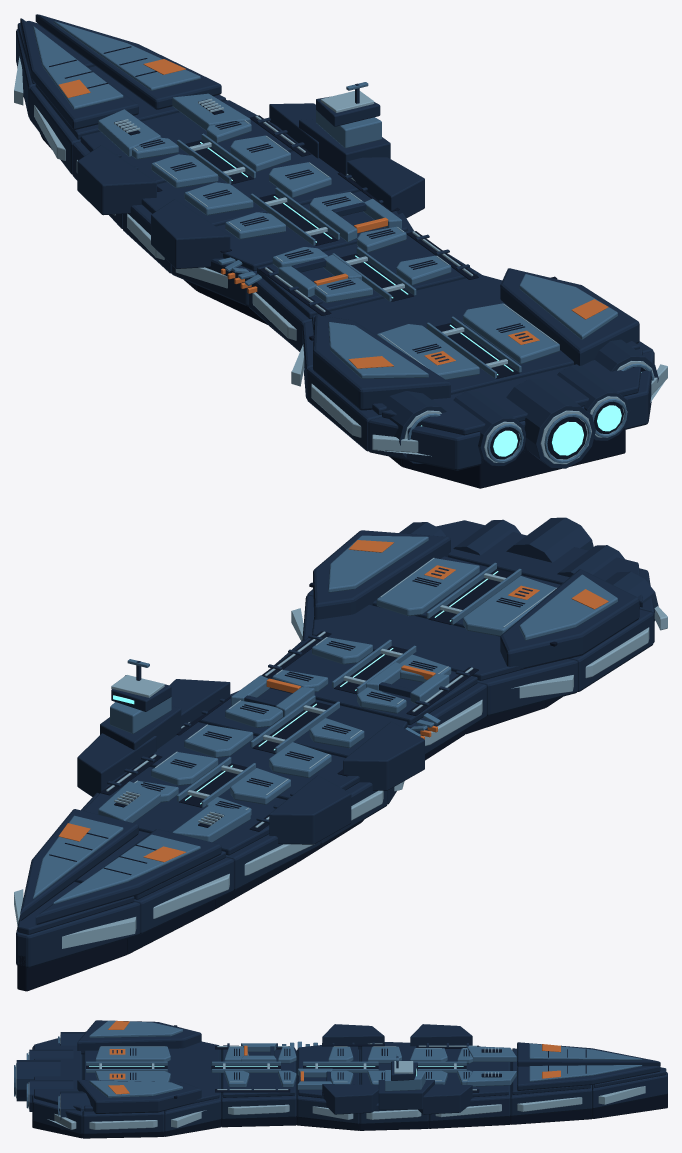
File: nesis-assault-v3.glb
3 views of the same model, one above another, from view 1: azimuth 30°, elevation 25°; view 2: azimuth 150°, elevation 25°; view 3: azimuth 270°, elevation 25° (orthographic). The views are drawn at different scales.
Parts seen in each view (by area): view 1: hull_0_navy, hull_2_navy, hull_0_blue, hull_3_navy, hull_1_navy, hull_3_blue, hull_2_blue, hull_4_navy, hull_1_blue, hull_0_black, hull_4_blue, hull_0_edge (+10 smaller); view 2: hull_0_navy, hull_3_navy, hull_1_navy, hull_2_navy, hull_0_blue, hull_4_navy, hull_2_blue, hull_3_blue, hull_1_blue, hull_4_blue, hull_3_black, hull_1_black (+10 smaller); view 3: hull_0_navy, hull_2_navy, hull_3_navy, hull_1_navy, hull_0_blue, hull_4_navy, hull_1_blue, hull_3_blue, hull_2_blue, hull_4_blue, hull_3_black, hull_1_black (+10 smaller).
Part boxes in pixels (x1,y1,x2,y2): hull_0_navy: [307, 268, 658, 470]; hull_2_navy: [122, 83, 424, 306]; hull_0_blue: [328, 274, 653, 463]; hull_3_navy: [29, 66, 318, 228]; hull_1_navy: [248, 202, 510, 398]; hull_3_blue: [98, 93, 290, 188]; hull_2_blue: [184, 82, 381, 245]; hull_4_navy: [16, 14, 221, 129]; hull_1_blue: [218, 198, 451, 302]; hull_0_black: [309, 276, 645, 488]; hull_4_blue: [33, 21, 200, 109]; hull_0_edge: [311, 304, 667, 464]; hull_0_navy: [307, 517, 658, 691]; hull_3_navy: [75, 733, 351, 934]; hull_1_navy: [244, 595, 577, 754]; hull_2_navy: [100, 661, 424, 844]; hull_0_blue: [328, 535, 617, 640]; hull_4_navy: [16, 809, 221, 967]; hull_2_blue: [110, 659, 364, 777]; hull_3_blue: [98, 752, 290, 842]; hull_1_blue: [231, 637, 451, 736]; hull_4_blue: [33, 815, 200, 904]; hull_3_black: [100, 754, 297, 954]; hull_1_black: [261, 631, 545, 760]; hull_0_navy: [16, 1020, 201, 1134]; hull_2_navy: [296, 1024, 434, 1124]; hull_3_navy: [410, 1024, 592, 1121]; hull_1_navy: [164, 1041, 330, 1131]; hull_0_blue: [14, 1020, 182, 1115]; hull_4_navy: [517, 1042, 667, 1108]; hull_1_blue: [211, 1041, 332, 1089]; hull_3_blue: [410, 1046, 516, 1086]; hull_2_blue: [303, 1046, 425, 1091]; hull_4_blue: [529, 1043, 642, 1081]; hull_3_black: [416, 1045, 592, 1128]; hull_1_black: [164, 1046, 296, 1136].
Bounding box in the file's own units: 32.5 × 14.4 × 104.
